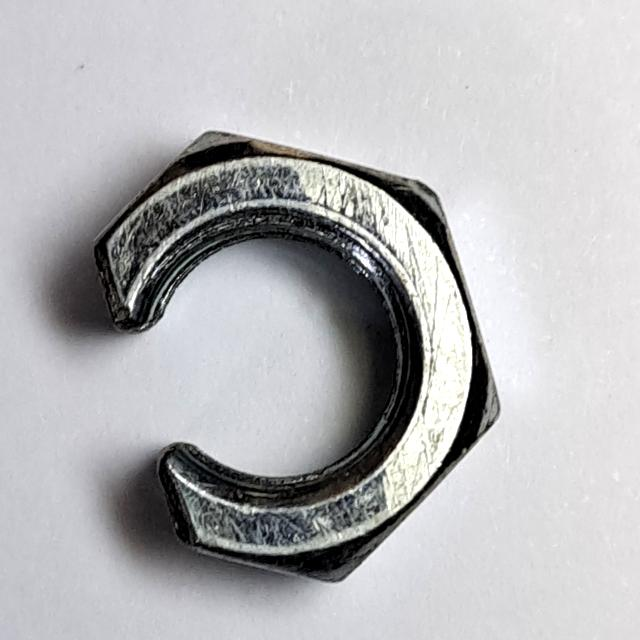Fracture: (81, 113, 513, 598)
